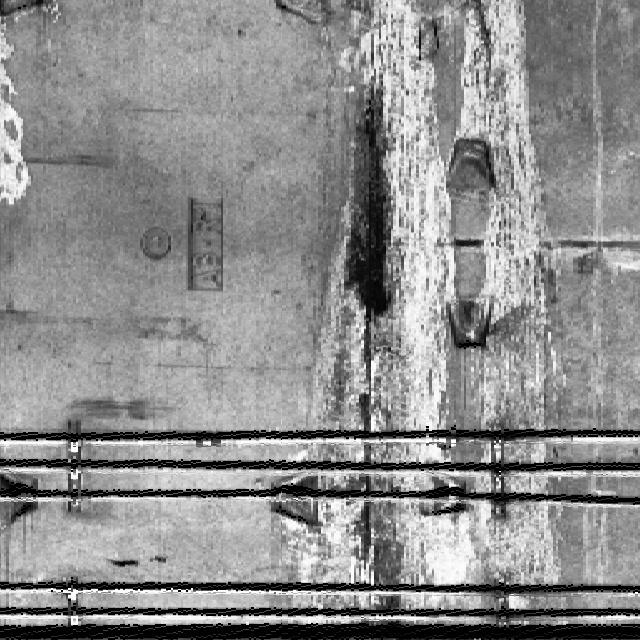leakage: (276, 4, 574, 631)
